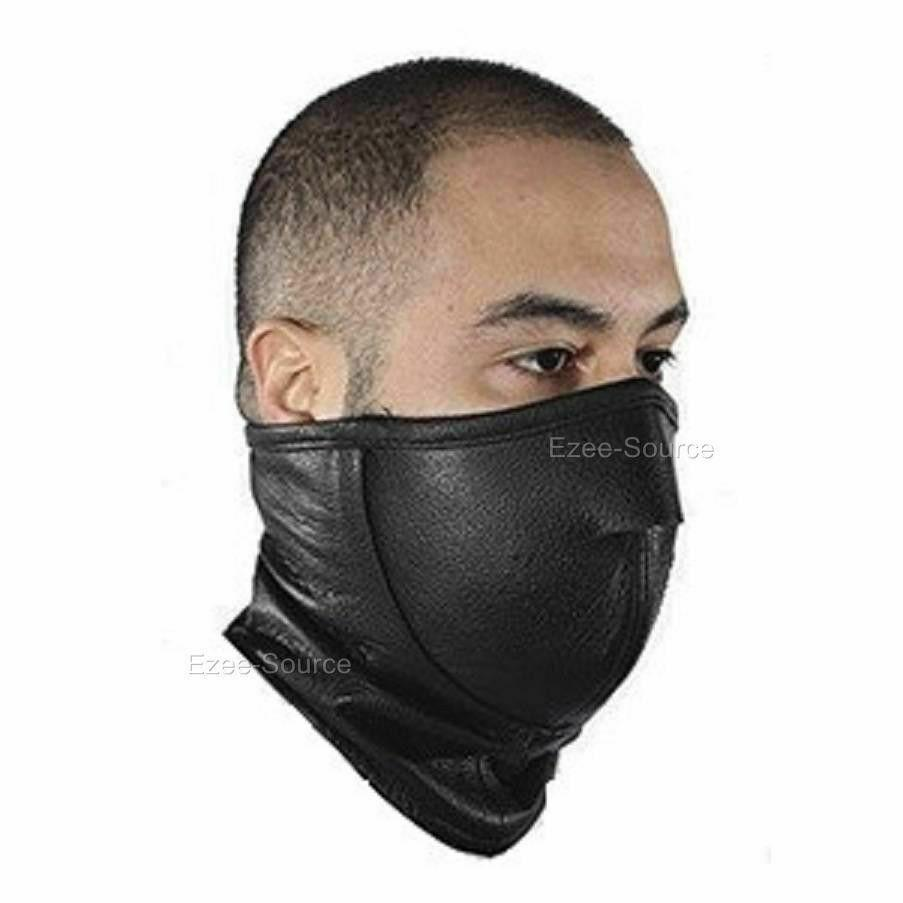Wearing Mask: (107, 0, 772, 903)
